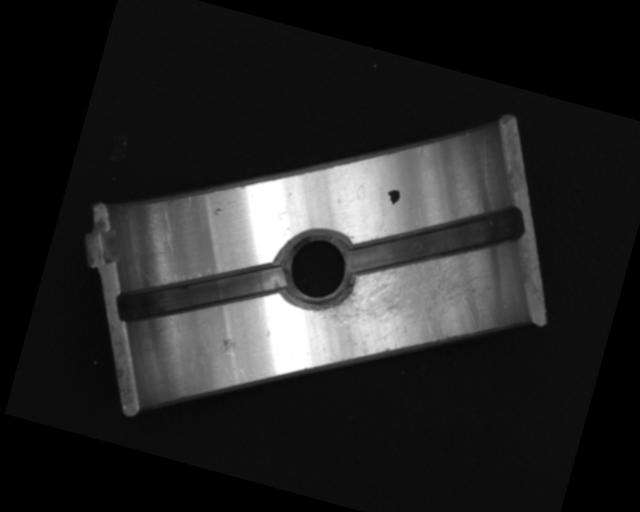blot: (384, 186, 402, 208)
bruise: (218, 335, 238, 357), (211, 206, 224, 218)
gap: (345, 169, 528, 313), (111, 228, 290, 360)
hole: (271, 220, 363, 320)
nick: (146, 200, 184, 252)
scratch: (302, 221, 485, 392)
